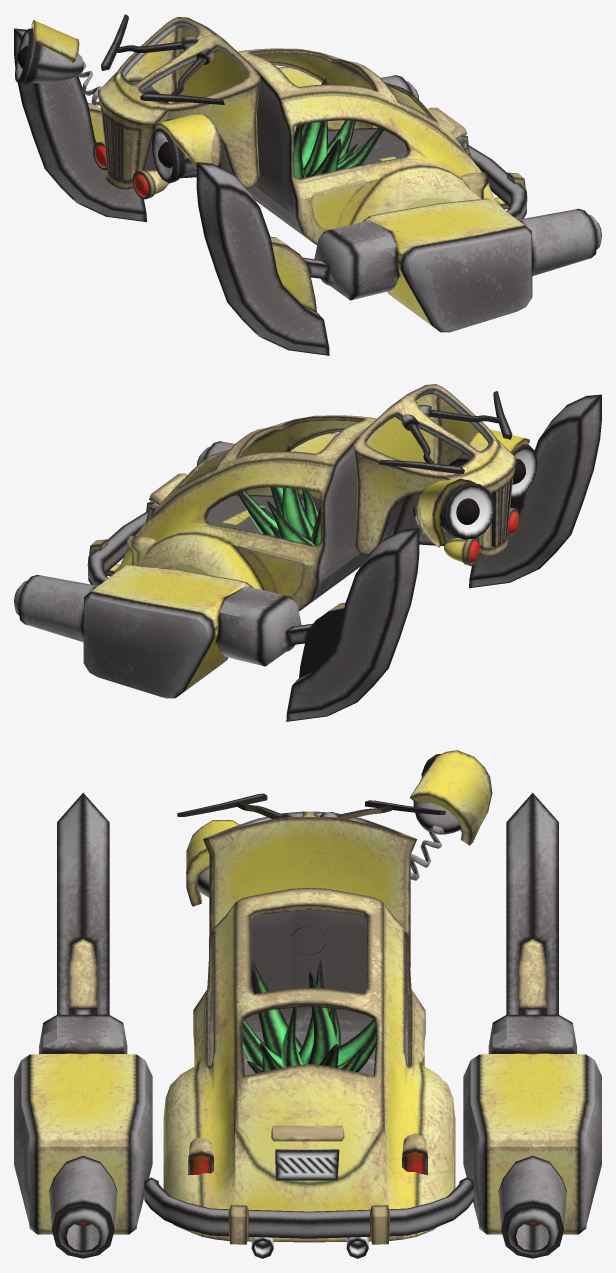
File: character_all 1.fbx
The picture shows the model from 3 angles, top to bottom: view 1: azimuth 30°, elevation 25°; view 2: azimuth 150°, elevation 25°; view 3: azimuth 270°, elevation 25°; orthographic projection. The views are drawn at different scales.
Parts seen in each view (by area): view 1: cabin_lp, hand middlearm_lp, head head_lp, hand hand_lp, hand hand_lp1, hand turbine_lp, plant_lp, polySurface49 polySurface43, polySurface43 eye_additional_lp polySurface50, bamper_lp body, head polySurface14, dvornik_lp (+5 smaller); view 2: cabin_lp, hand middlearm_lp1, head head_lp, hand hand_lp1, hand hand_lp, turbine_lp1 hand, plant_lp, polySurface49 polySurface43, polySurface43 polySurface51 eye_additional_lp, bamper_lp body, dvornik_lp1, dvornik_lp (+6 smaller); view 3: cabin_lp, hand middlearm_lp, hand middlearm_lp1, head head_lp, hand hand_lp1, hand hand_lp, bamper_lp body, plant_lp, turbine_lp1 hand, hand turbine_lp, polySurface43 polySurface51 eye_additional_lp, badge_lp (+7 smaller).
Part boxes in pixels (x1,y1,x2,y2): cabin_lp: (238, 48, 525, 244); hand middlearm_lp: (314, 198, 532, 332); head head_lp: (98, 17, 260, 189); hand hand_lp: (196, 162, 333, 355); hand hand_lp1: (14, 28, 146, 222); hand turbine_lp: (518, 208, 601, 276); plant_lp: (294, 78, 383, 178); polySurface49 polySurface43: (15, 28, 83, 84); polySurface43 eye_additional_lp polySurface50: (155, 114, 221, 169); bamper_lp body: (468, 145, 527, 219); head polySurface14: (152, 128, 196, 183); dvornik_lp: (140, 48, 224, 104); cabin_lp: (89, 415, 376, 611); hand middlearm_lp1: (83, 564, 301, 698); head head_lp: (353, 384, 516, 556); hand hand_lp1: (282, 528, 419, 721); hand hand_lp: (469, 394, 601, 588); turbine_lp1 hand: (14, 575, 97, 642); plant_lp: (238, 445, 320, 545); polySurface49 polySurface43: (439, 483, 495, 539); polySurface43 polySurface51 eye_additional_lp: (416, 478, 475, 547); bamper_lp body: (87, 510, 148, 585); dvornik_lp1: (378, 414, 464, 474); dvornik_lp: (418, 391, 512, 439); cabin_lp: (163, 888, 455, 1244); hand middlearm_lp: (14, 1014, 152, 1234); hand middlearm_lp1: (463, 1014, 601, 1234); head head_lp: (203, 811, 417, 966); hand hand_lp1: (506, 792, 558, 1014); hand hand_lp: (57, 792, 109, 1014); bamper_lp body: (144, 1177, 473, 1238); plant_lp: (242, 960, 376, 1073); turbine_lp1 hand: (498, 1155, 566, 1258); hand turbine_lp: (49, 1155, 117, 1258); polySurface43 polySurface51 eye_additional_lp: (410, 750, 492, 845); badge_lp: (275, 1149, 339, 1180).
Size of the model in its own units: 17.91 by 10.31 by 17.13.
Materials: 1 (1 with a texture image).
